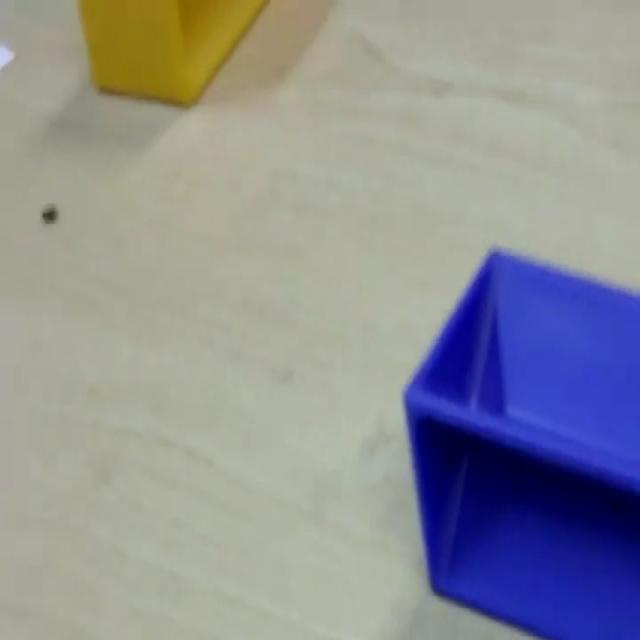blue_block: (402, 241, 638, 636)
yellow_block: (76, 0, 269, 107)
